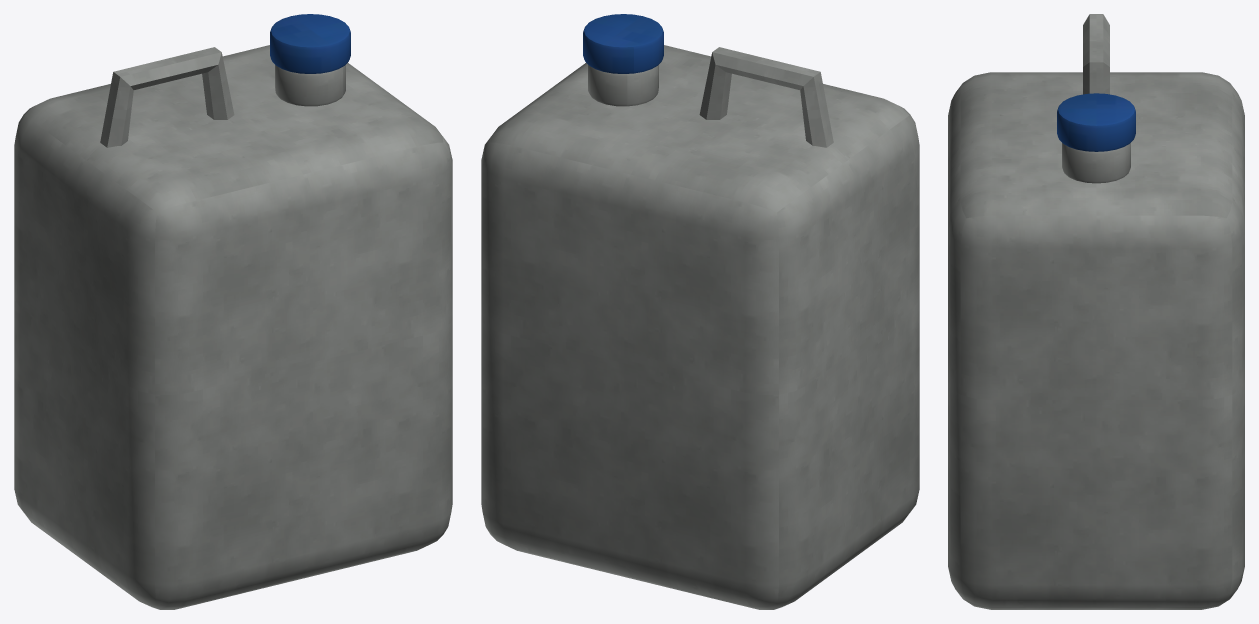
Rendered from EST-ADT-002_lod1.glb.
3 renders of one model, left to right at view 1: azimuth 30°, elevation 25°; view 2: azimuth 150°, elevation 25°; view 3: azimuth 270°, elevation 25°, orthographic. The views are drawn at different scales.
Visible parts, largest first — view 1: EST-ADT-002_corpo, EST-ADT-002_alca, EST-ADT-002_tampa, EST-ADT-002_gargalo; view 2: EST-ADT-002_corpo, EST-ADT-002_alca, EST-ADT-002_tampa, EST-ADT-002_gargalo; view 3: EST-ADT-002_corpo, EST-ADT-002_tampa, EST-ADT-002_gargalo, EST-ADT-002_alca.
Part boxes in pixels (left/top/right/bottom): EST-ADT-002_corpo: left=14, top=45, right=452, bottom=609; EST-ADT-002_alca: left=100, top=47, right=234, bottom=147; EST-ADT-002_tampa: left=270, top=14, right=350, bottom=73; EST-ADT-002_gargalo: left=275, top=65, right=345, bottom=106; EST-ADT-002_corpo: left=481, top=45, right=919, bottom=609; EST-ADT-002_alca: left=699, top=47, right=833, bottom=147; EST-ADT-002_tampa: left=583, top=14, right=663, bottom=73; EST-ADT-002_gargalo: left=588, top=65, right=658, bottom=106; EST-ADT-002_corpo: left=948, top=72, right=1244, bottom=609; EST-ADT-002_tampa: left=1057, top=93, right=1135, bottom=151; EST-ADT-002_gargalo: left=1062, top=143, right=1130, bottom=183; EST-ADT-002_alca: left=1083, top=14, right=1109, bottom=94.
Bounding box in the file's own units: 0.29 × 0.4273 × 0.24.
Materials: 2 (2 with a texture image).
